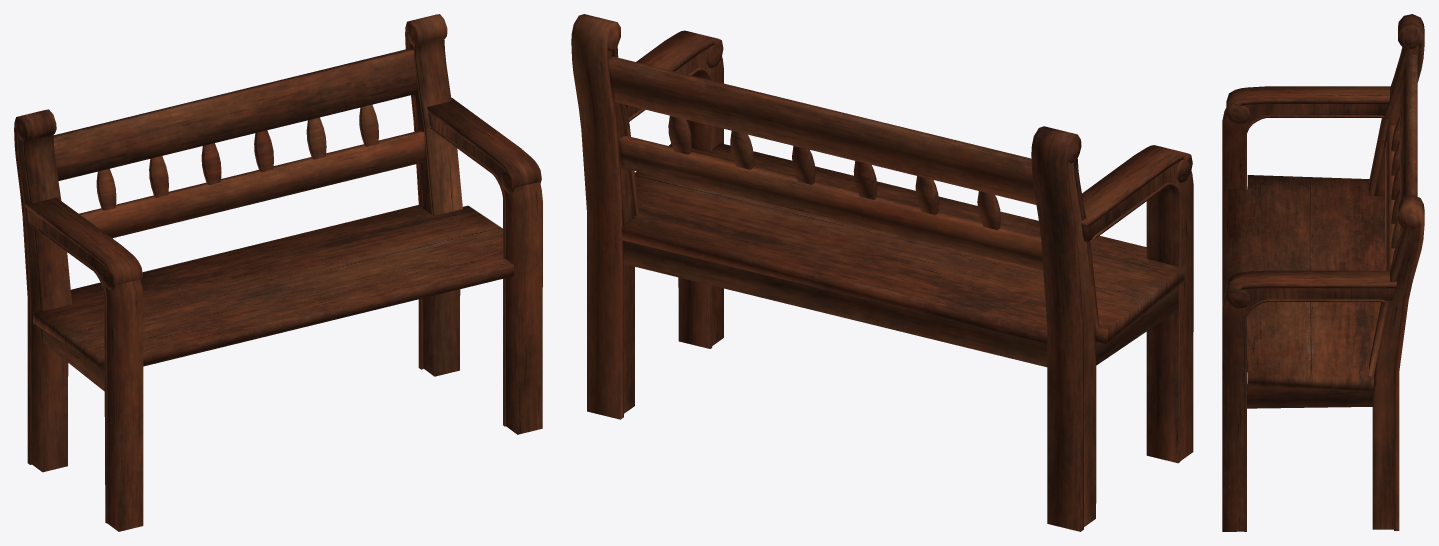
Rendered from banc_bois.glb.
3 renders of one model, left to right at view 1: azimuth 30°, elevation 25°; view 2: azimuth 150°, elevation 25°; view 3: azimuth 270°, elevation 25°, orthographic. The views are drawn at different scales.
Visible parts, largest first — view 1: Banc; view 2: Banc; view 3: Banc.
Part boxes in pixels (x1,y1,x2,y2): Banc: (14, 14, 542, 531); Banc: (571, 14, 1193, 531); Banc: (1222, 14, 1424, 531).
Bounding box in the file's own units: 1.53 × 1.15 × 0.6524.
1 material, 1 textured.
